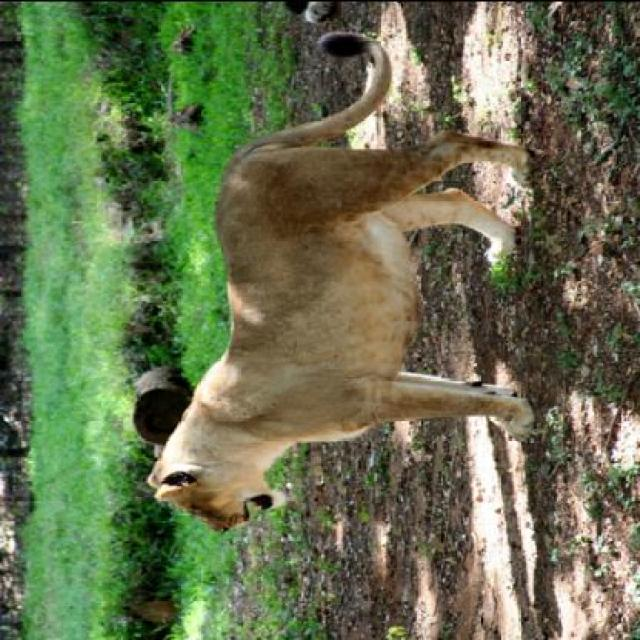Lion: (131, 20, 571, 531)
